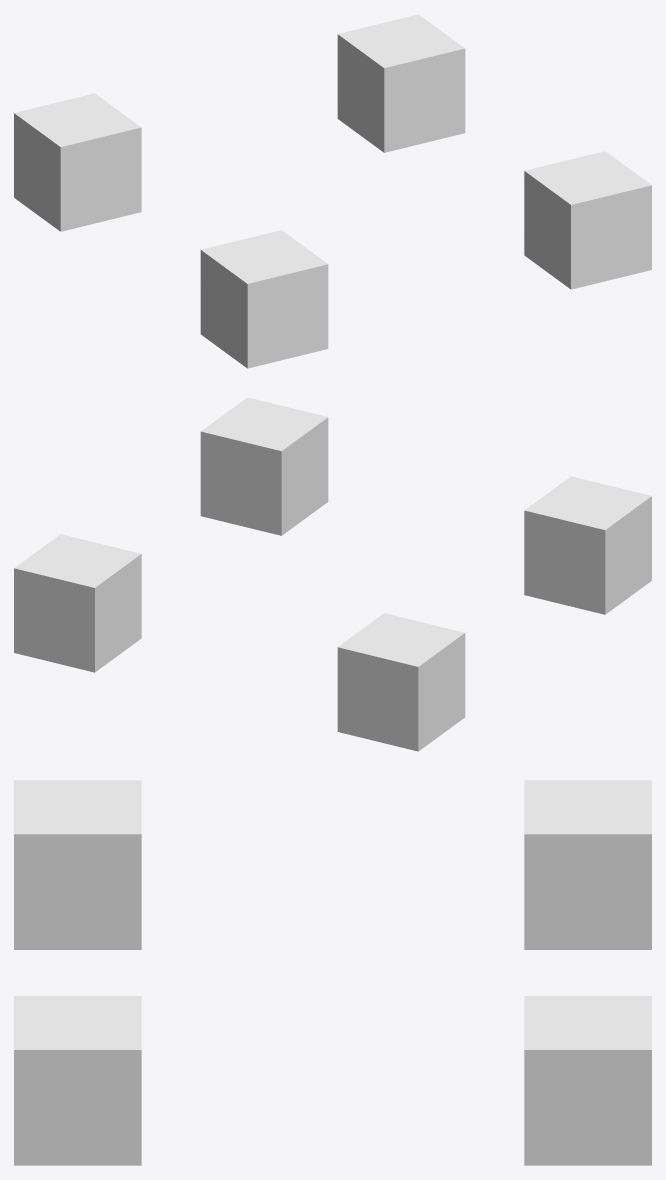
File: scene_intro.obj
3 renders of one model, top to bottom at view 1: azimuth 30°, elevation 25°; view 2: azimuth 150°, elevation 25°; view 3: azimuth 270°, elevation 25°, orthographic. The views are drawn at different scales.
Visible parts, largest first — view 1: pCube3, pCube4, pCube1, pCube2; view 2: pCube1, pCube2, pCube3, pCube4; view 3: pCube1, pCube2, pCube3, pCube4.
Boxes of the visible parts, x1,y1,x2,y2 form: pCube3: (200, 230, 328, 368); pCube4: (337, 14, 465, 152); pCube1: (524, 151, 651, 289); pCube2: (14, 93, 141, 231); pCube1: (200, 397, 328, 535); pCube2: (337, 613, 465, 751); pCube3: (524, 476, 651, 614); pCube4: (14, 534, 141, 672); pCube1: (14, 996, 141, 1165); pCube2: (524, 780, 651, 949); pCube3: (14, 780, 141, 949); pCube4: (524, 996, 651, 1165).
Size of what is drawn, in the model's own units: 5 by 1 by 5.
1 material, 1 textured.
